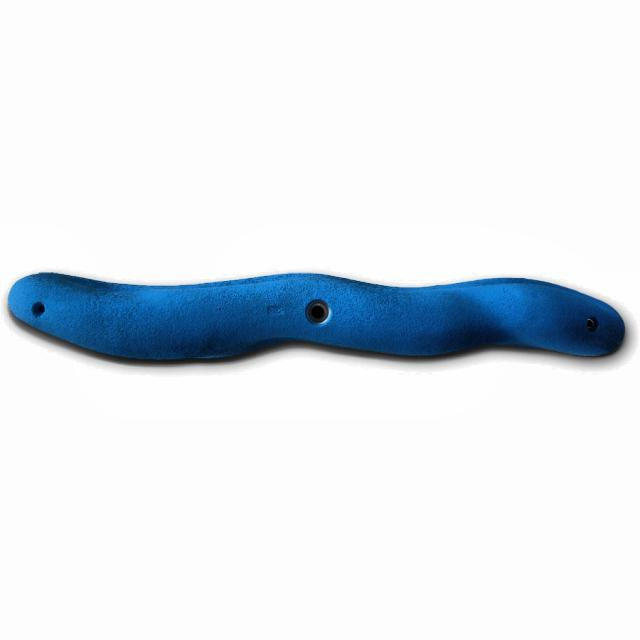Hold: (9, 257, 632, 376)
